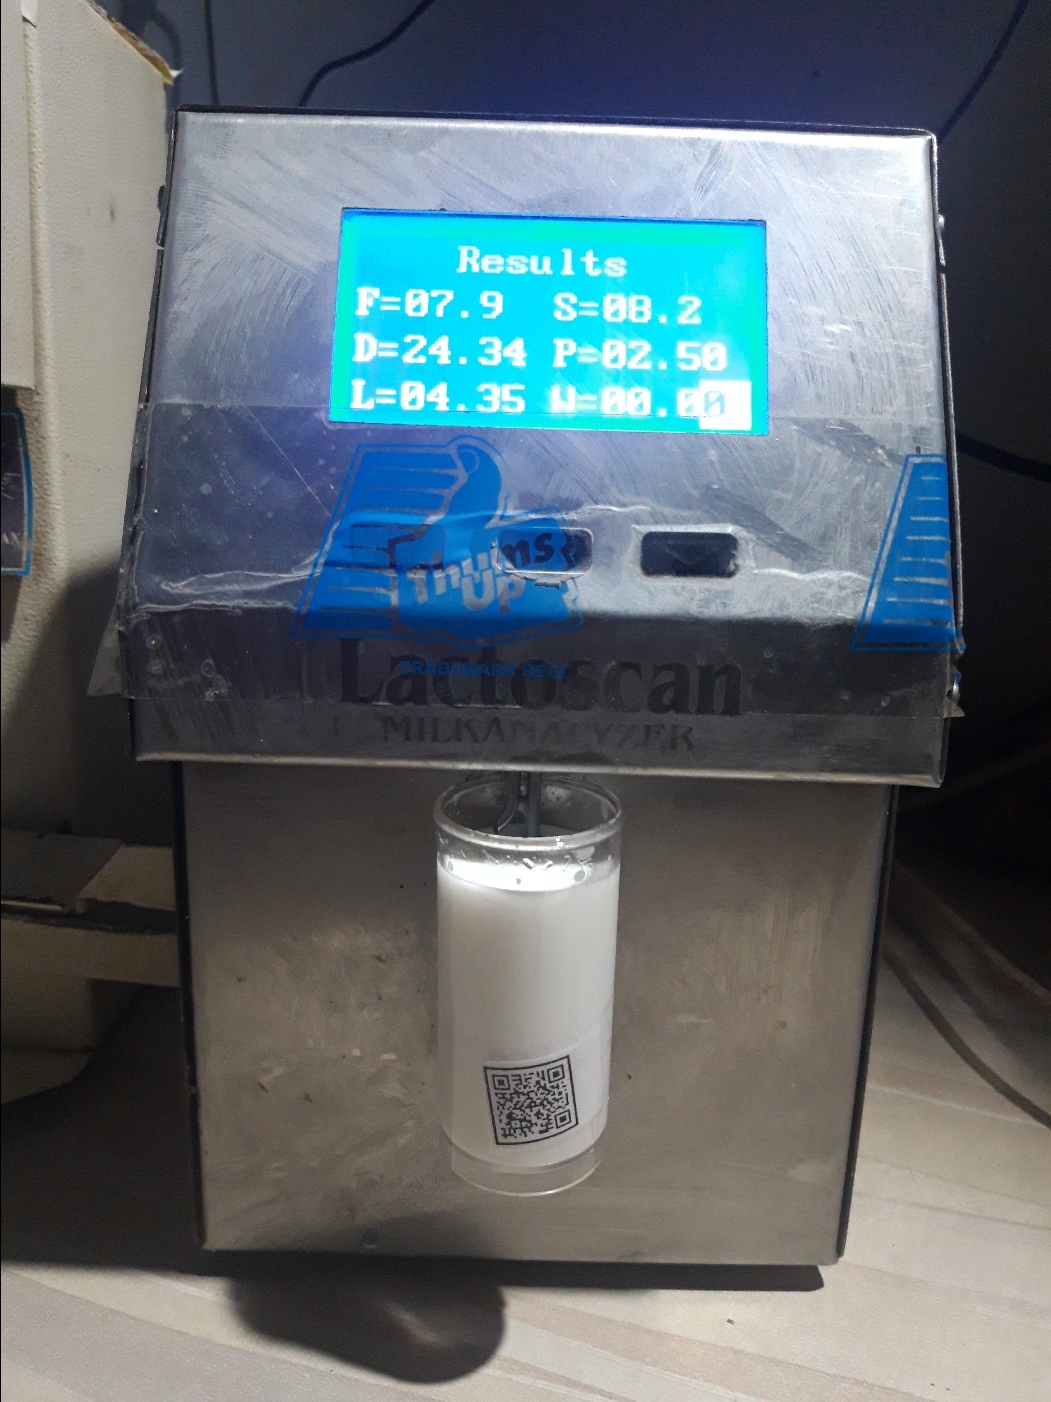lcd: (326, 197, 781, 458)
qr: (469, 1045, 590, 1151)
